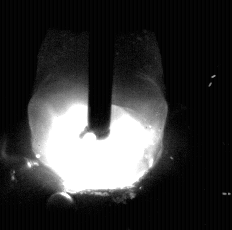arame: (89, 0, 113, 139)
poca: (30, 0, 164, 230)
